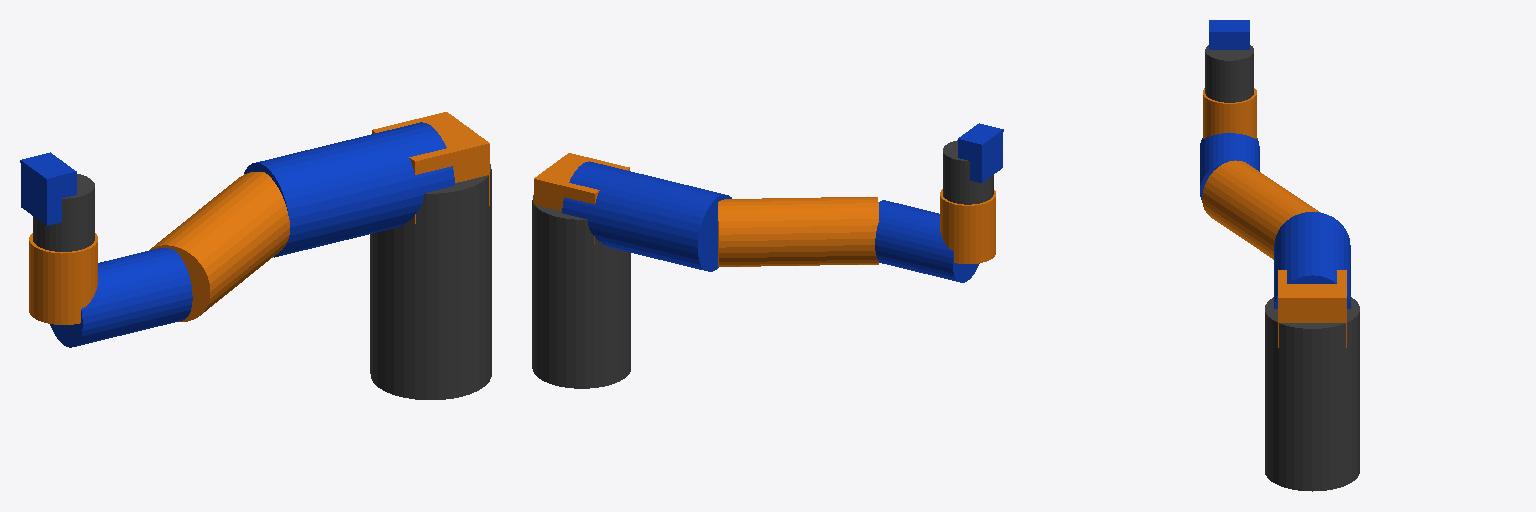
The robot description file, URDF, robot "mycobot_280":
<?xml version="1.0"?>
<!--
  myCobot 280 - kinematic URDF reconstructed from "myCobot 280 URDF Joint
  Specifications" (PDF in this folder). Joint origins / axes / limits are taken
  verbatim from that document. Link visuals are simple cylinders generated to
  span each link vector so the arm is recognizable in RViz; they are cosmetic
  and carry no inertial/collision data (this model is for kinematics + RViz only).
  root link = link1 (base), end-effector frame = gripper_base.
-->
<robot name="mycobot_280">

  <material name="grey">  <color rgba="0.3 0.3 0.3 1.0"/></material>
  <material name="orange"><color rgba="0.9 0.5 0.1 1.0"/></material>
  <material name="blue">  <color rgba="0.1 0.3 0.8 1.0"/></material>

  <!-- ===== Links ===== -->

  <!-- link1 : base. Vertical cylinder up to joint 1 (h = 0.13156) -->
  <link name="link1">
    <visual>
      <origin rpy="0 0 0" xyz="0 0 0.06578"/>
      <geometry><cylinder radius="0.035" length="0.13156"/></geometry>
      <material name="grey"/>
    </visual>
  </link>

  <!-- link2 : near-zero offset to joint 2 -> small marker box -->
  <link name="link2">
    <visual>
      <origin rpy="0 0 0" xyz="0 0 0"/>
      <geometry><box size="0.05 0.05 0.04"/></geometry>
      <material name="orange"/>
    </visual>
  </link>

  <!-- link3 : cylinder along -X (h = 0.1104) -->
  <link name="link3">
    <visual>
      <origin rpy="0 1.5708 0" xyz="-0.0552 0 0"/>
      <geometry><cylinder radius="0.028" length="0.1104"/></geometry>
      <material name="blue"/>
    </visual>
  </link>

  <!-- link4 : cylinder along (-0.096, 0, 0.06062), |v| = 0.11349 -->
  <link name="link4">
    <visual>
      <origin rpy="0 -1.0070 0" xyz="-0.048 0 0.03031"/>
      <geometry><cylinder radius="0.024" length="0.11349"/></geometry>
      <material name="orange"/>
    </visual>
  </link>

  <!-- link5 : cylinder along -Y (h = 0.07318) -->
  <link name="link5">
    <visual>
      <origin rpy="1.5708 0 0" xyz="0 -0.03659 0"/>
      <geometry><cylinder radius="0.022" length="0.07318"/></geometry>
      <material name="blue"/>
    </visual>
  </link>

  <!-- link6 : cylinder along +Y (h = 0.0456) -->
  <link name="link6">
    <visual>
      <origin rpy="1.5708 0 0" xyz="0 0.0228 0"/>
      <geometry><cylinder radius="0.020" length="0.0456"/></geometry>
      <material name="orange"/>
    </visual>
  </link>

  <!-- link6_flange : short cylinder along +Z (h = 0.034) -->
  <link name="link6_flange">
    <visual>
      <origin rpy="0 0 0" xyz="0 0 0.017"/>
      <geometry><cylinder radius="0.018" length="0.034"/></geometry>
      <material name="grey"/>
    </visual>
  </link>

  <!-- gripper_base : end-effector marker -->
  <link name="gripper_base">
    <visual>
      <origin rpy="0 0 0" xyz="0 0 0.01"/>
      <geometry><box size="0.03 0.03 0.02"/></geometry>
      <material name="blue"/>
    </visual>
  </link>

  <!-- ===== Joints (origins/axes/limits verbatim from the PDF) ===== -->

  <joint name="link1_to_link2" type="revolute">
    <axis xyz="0 0 1"/>
    <limit effort="56.0" lower="-2.879793" upper="2.879793" velocity="2.792527"/>
    <parent link="link1"/>
    <child link="link2"/>
    <origin rpy="0 0 1.5707963267948966" xyz="0 0 0.13156"/>
  </joint>

  <joint name="link2_to_link3" type="revolute">
    <axis xyz="0 0 1"/>
    <limit effort="56.0" lower="-2.879793" upper="2.879793" velocity="2.792527"/>
    <parent link="link2"/>
    <child link="link3"/>
    <origin rpy="1.5707963267948966 0 -1.5707963267948966" xyz="0 0 -0.001"/>
  </joint>

  <joint name="link3_to_link4" type="revolute">
    <axis xyz="0 0 1"/>
    <limit effort="56.0" lower="-2.879793" upper="2.879793" velocity="2.792527"/>
    <parent link="link3"/>
    <child link="link4"/>
    <origin rpy="0 0 0" xyz="-0.1104 0 0"/>
  </joint>

  <joint name="link4_to_link5" type="revolute">
    <axis xyz="0 0 1"/>
    <limit effort="56.0" lower="-2.879793" upper="2.879793" velocity="2.792527"/>
    <parent link="link4"/>
    <child link="link5"/>
    <origin rpy="0 0 -1.5707963267948966" xyz="-0.096 0 0.06062"/>
  </joint>

  <joint name="link5_to_link6" type="revolute">
    <axis xyz="0 0 1"/>
    <limit effort="56.0" lower="-2.879793" upper="2.879793" velocity="2.792527"/>
    <parent link="link5"/>
    <child link="link6"/>
    <origin rpy="1.5707963267948966 -1.5707963267948966 0" xyz="0 -0.07318 0"/>
  </joint>

  <joint name="link6_to_link6_flange" type="revolute">
    <axis xyz="0 0 1"/>
    <limit effort="56.0" lower="-3.05" upper="3.05" velocity="2.792527"/>
    <parent link="link6"/>
    <child link="link6_flange"/>
    <origin rpy="-1.5707963267948966 0 0" xyz="0 0.0456 0"/>
  </joint>

  <joint name="link6_flange_to_gripper_base" type="fixed">
    <parent link="link6_flange"/>
    <child link="gripper_base"/>
    <origin rpy="1.579 0 0" xyz="0 0 0.034"/>
  </joint>

</robot>

--- Facts derived from the render (not from the file) ---
3 views of the same robot in one strip: view 1: azimuth 30°, elevation 25°; view 2: azimuth 150°, elevation 25°; view 3: azimuth 270°, elevation 25° (orthographic).
Model mycobot_280 with 8 links and 7 joints (6 revolute, 1 fixed), rooted at link1, posed every joint at zero.
Links seen in each view (by area): view 1: link1, link3, link4, link5, link6, link2, gripper_base, link6_flange; view 2: link1, link3, link4, link5, link6, link2, gripper_base, link6_flange; view 3: link1, link4, link3, link2, link6_flange, link5, link6, gripper_base.
Link boxes in pixels (x1=…): link1: x1=370, y1=164, x2=491, y2=399; link3: x1=244, y1=122, x2=454, y2=257; link4: x1=149, y1=172, x2=289, y2=321; link5: x1=50, y1=248, x2=192, y2=347; link6: x1=29, y1=233, x2=97, y2=324; link2: x1=372, y1=112, x2=489, y2=223; gripper_base: x1=20, y1=152, x2=76, y2=225; link6_flange: x1=33, y1=174, x2=94, y2=251; link1: x1=532, y1=195, x2=630, y2=388; link3: x1=562, y1=161, x2=731, y2=271; link4: x1=718, y1=197, x2=878, y2=266; link5: x1=875, y1=200, x2=979, y2=282; link6: x1=940, y1=189, x2=995, y2=263; link2: x1=534, y1=153, x2=629, y2=244; gripper_base: x1=958, y1=123, x2=1003, y2=182; link6_flange: x1=943, y1=140, x2=993, y2=204; link1: x1=1265, y1=297, x2=1359, y2=491; link4: x1=1202, y1=160, x2=1320, y2=259; link3: x1=1274, y1=212, x2=1350, y2=308; link2: x1=1278, y1=270, x2=1346, y2=347; link6_flange: x1=1205, y1=45, x2=1253, y2=102; link5: x1=1200, y1=133, x2=1259, y2=199; link6: x1=1203, y1=88, x2=1256, y2=138; gripper_base: x1=1209, y1=20, x2=1249, y2=49.
Bounding box of the posed robot: 0.3347 × 0.1176 × 0.2252 m (x, y, z).
Geometry: primitives only (box / cylinder / sphere), no mesh files.
